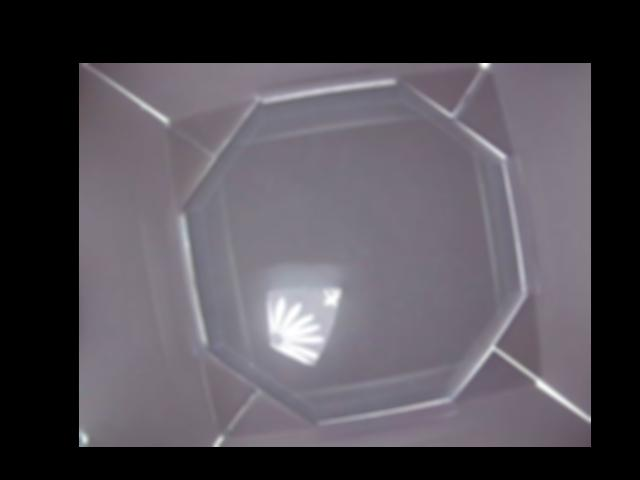China: (266, 287, 343, 365)
